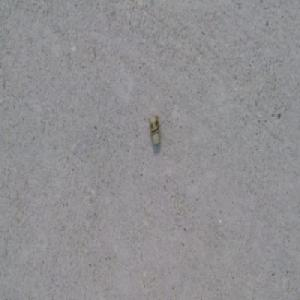BoltNutSet: (148, 113, 162, 148)
